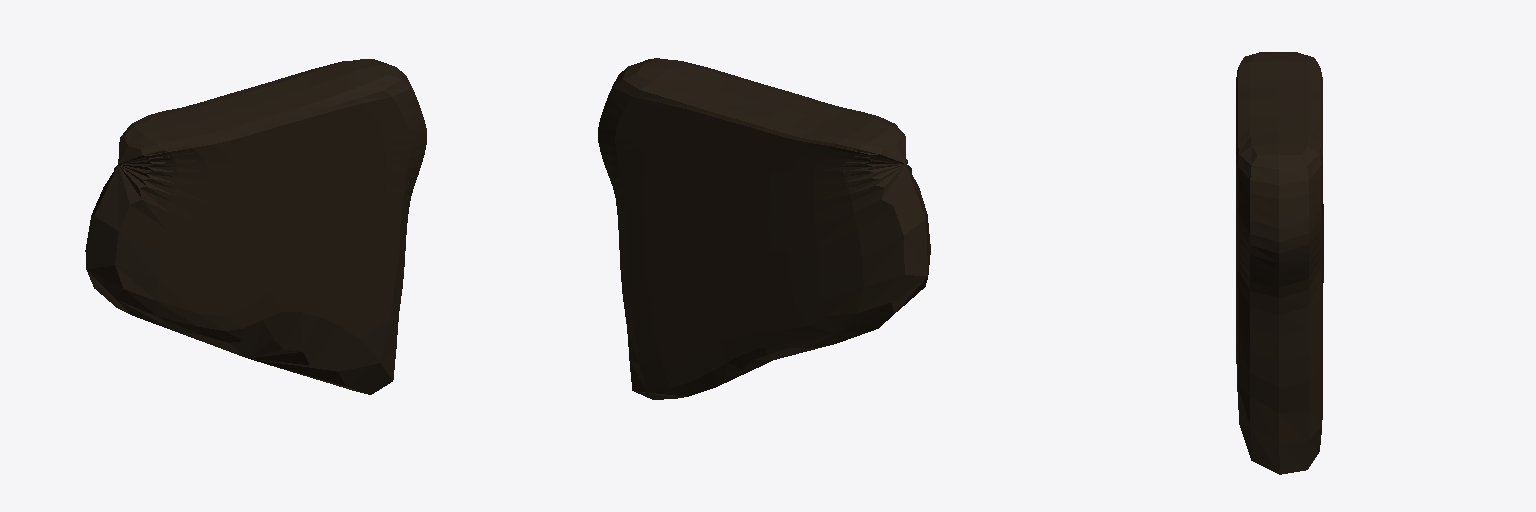
File: glasses_11_temple_hinge_right.obj
3 renders of one model, left to right at view 1: azimuth 30°, elevation 25°; view 2: azimuth 150°, elevation 25°; view 3: azimuth 270°, elevation 25°, orthographic.
Visible parts, largest first — view 1: Cube.001; view 2: Cube.001; view 3: Cube.001.
Boxes of the visible parts, box(x1,y1,x2,y2) form: Cube.001: box(85, 59, 426, 394); Cube.001: box(598, 58, 930, 399); Cube.001: box(1236, 52, 1323, 474).
Size of the model in its own units: 0.0071 by 0.0067 by 0.0016.